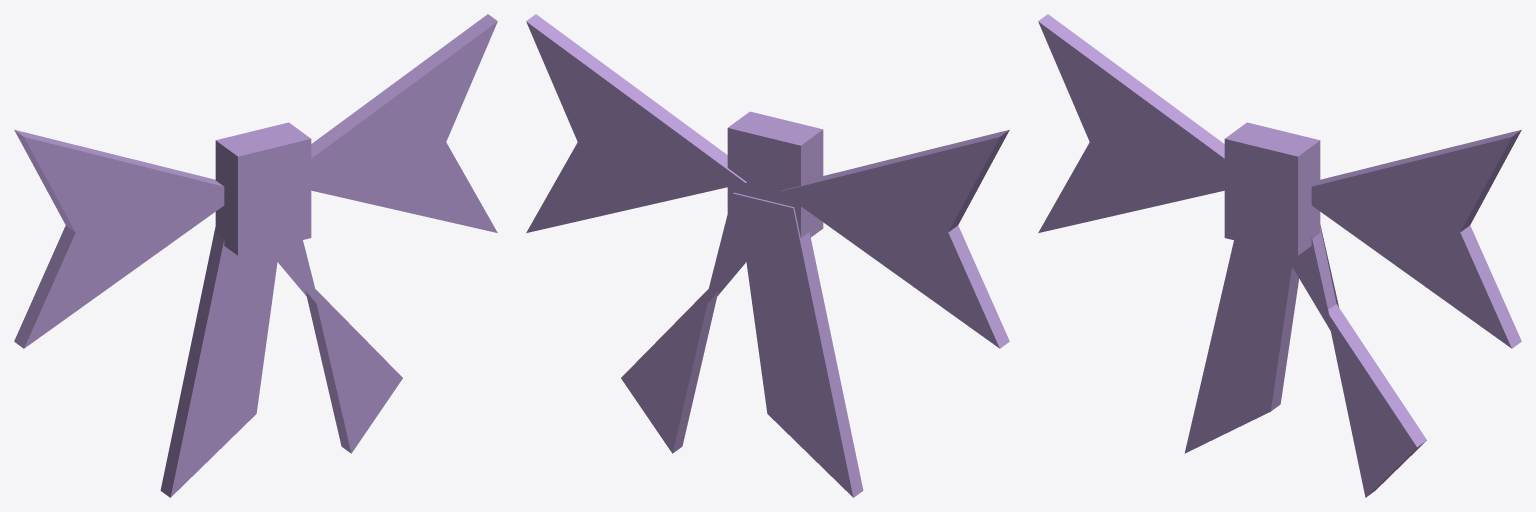
Rendered from ACC_Bow_Purple.glb.
3 views of the same model, side by side, from view 1: azimuth 30°, elevation 25°; view 2: azimuth 150°, elevation 25°; view 3: azimuth 330°, elevation 25° (orthographic).
Visible parts, largest first — view 1: ACC_Bow_Purple_1, ACC_Bow_Purple_2, ACC_Bow_Purple_3, ACC_Bow_Purple_5, ACC_Bow_Purple_4; view 2: ACC_Bow_Purple_1, ACC_Bow_Purple_2, ACC_Bow_Purple_3, ACC_Bow_Purple_4, ACC_Bow_Purple_5; view 3: ACC_Bow_Purple_2, ACC_Bow_Purple_1, ACC_Bow_Purple_3, ACC_Bow_Purple_5, ACC_Bow_Purple_4.
Part boxes in pixels (<box>): ACC_Bow_Purple_1: <box>14,129,224,348</box>; ACC_Bow_Purple_2: <box>311,14,497,232</box>; ACC_Bow_Purple_3: <box>160,227,277,497</box>; ACC_Bow_Purple_5: <box>215,122,311,255</box>; ACC_Bow_Purple_4: <box>270,240,402,453</box>; ACC_Bow_Purple_1: <box>780,129,1009,348</box>; ACC_Bow_Purple_2: <box>526,14,746,232</box>; ACC_Bow_Purple_3: <box>737,193,863,497</box>; ACC_Bow_Purple_4: <box>621,192,788,453</box>; ACC_Bow_Purple_5: <box>727,111,823,237</box>; ACC_Bow_Purple_2: <box>1311,129,1521,348</box>; ACC_Bow_Purple_1: <box>1038,14,1224,232</box>; ACC_Bow_Purple_3: <box>1184,240,1299,453</box>; ACC_Bow_Purple_5: <box>1224,122,1320,255</box>; ACC_Bow_Purple_4: <box>1292,225,1426,497</box>.
Size of the model in its own units: 0.11 by 0.088 by 0.0095.
